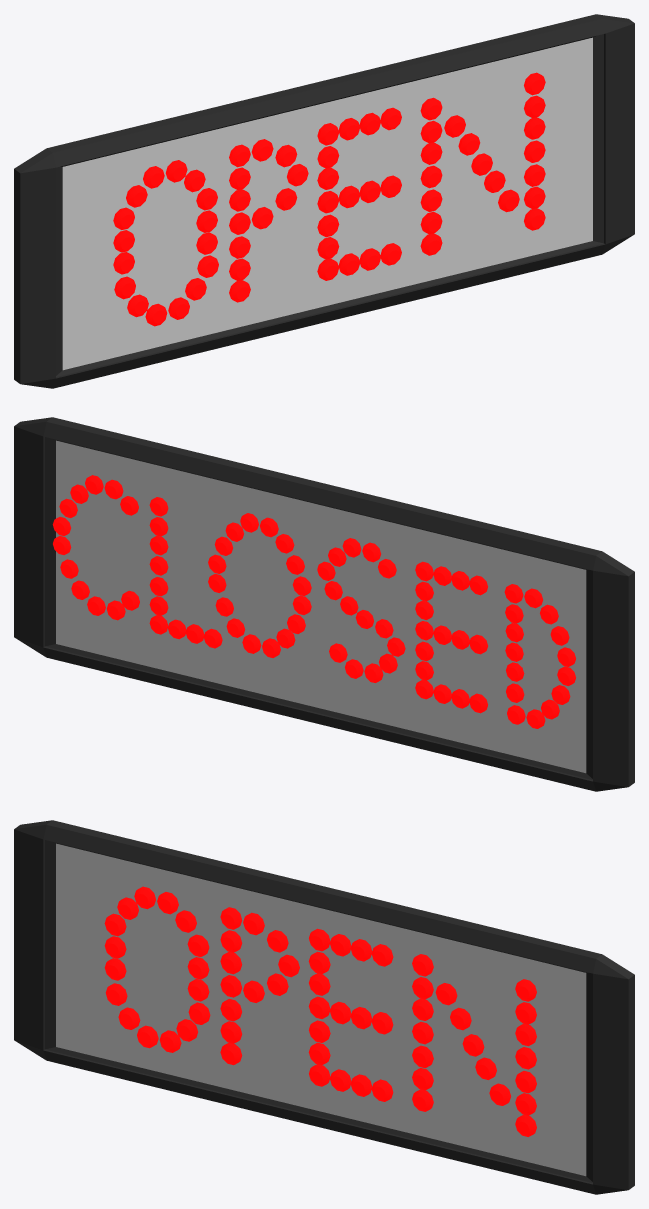
File: open_closed_sign.fbx
3 views of the same model, one above another, from view 1: azimuth 30°, elevation 25°; view 2: azimuth 150°, elevation 25°; view 3: azimuth 330°, elevation 25° (orthographic).
Visible parts, largest first — view 1: pCube45; view 2: pCube45; view 3: pCube45.
Boxes of the visible parts, x1=… form: pCube45: x1=14, y1=14, x2=634, y2=388; pCube45: x1=14, y1=417, x2=634, y2=791; pCube45: x1=14, y1=820, x2=634, y2=1194.
Bounding box in the file's own units: 0.5844 × 0.2143 × 0.0246.
